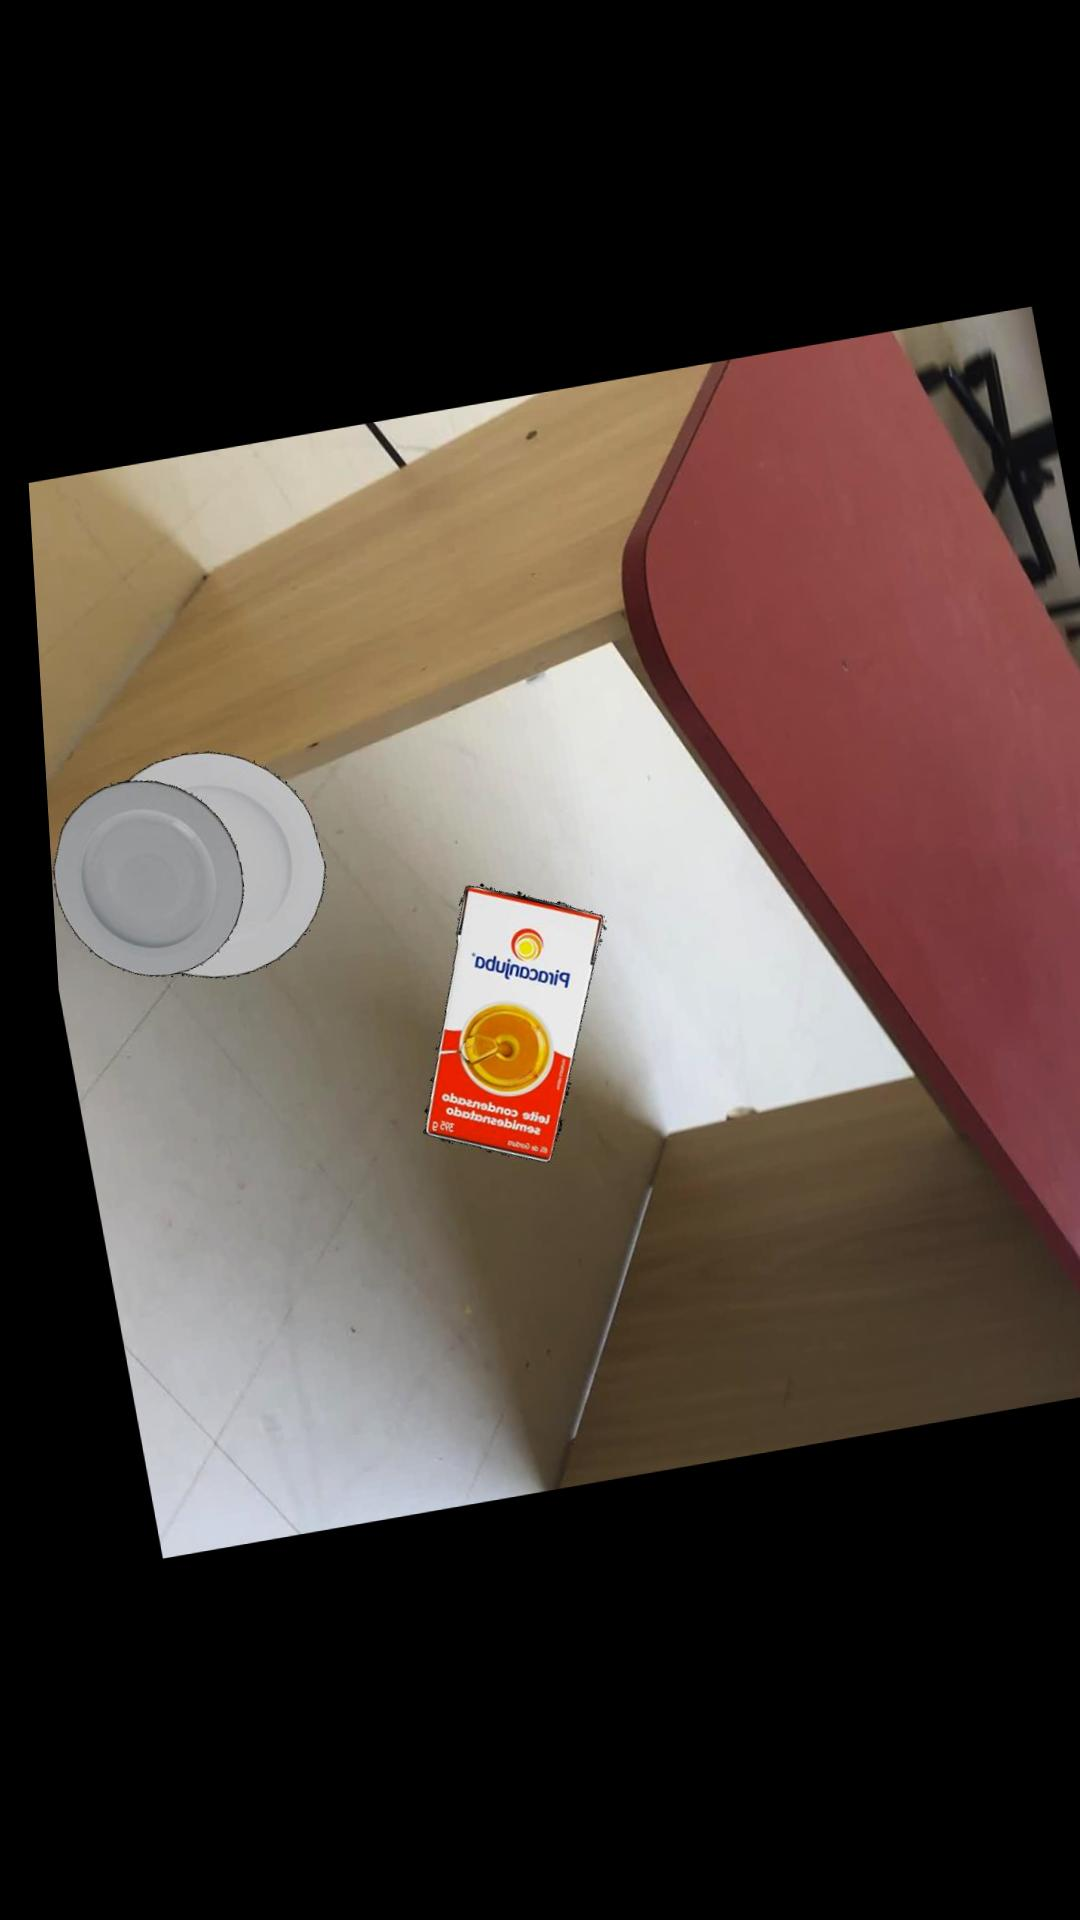plate: (117, 752, 315, 977), (42, 779, 232, 976)
